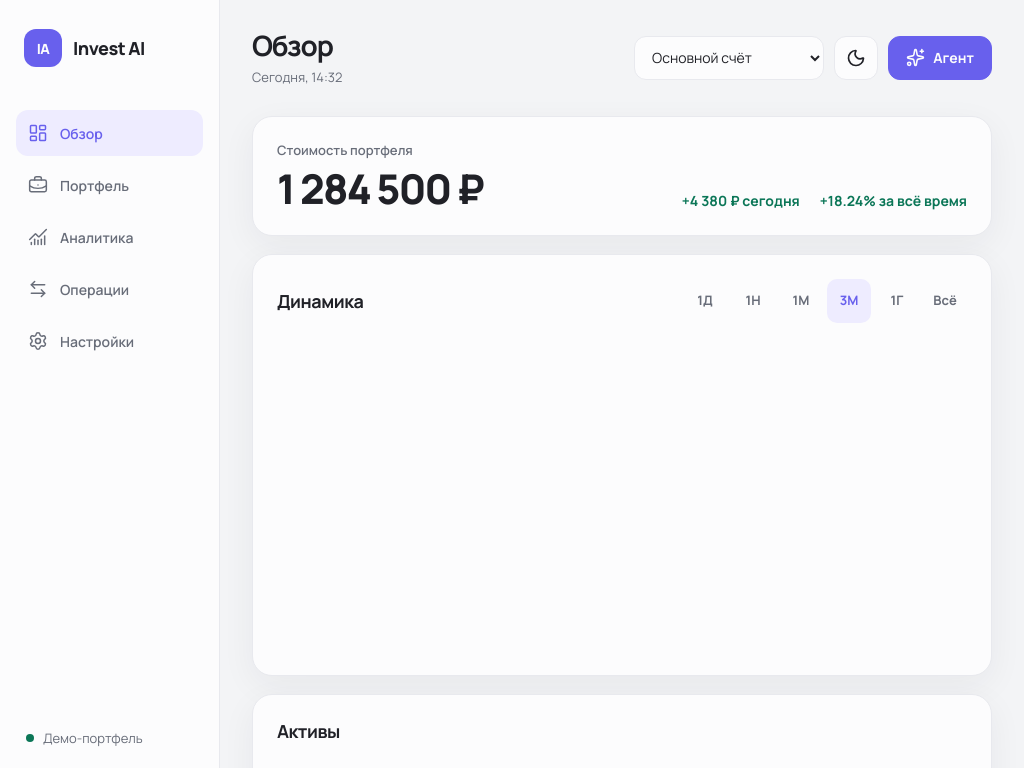
Test: StandApp › returns focus to the topbar opener after Escape and after reopening
Later steps or results of the test are not shown.
Click the button with aria-label "Открыть агента" at (940, 58), box [888,36,992,80]
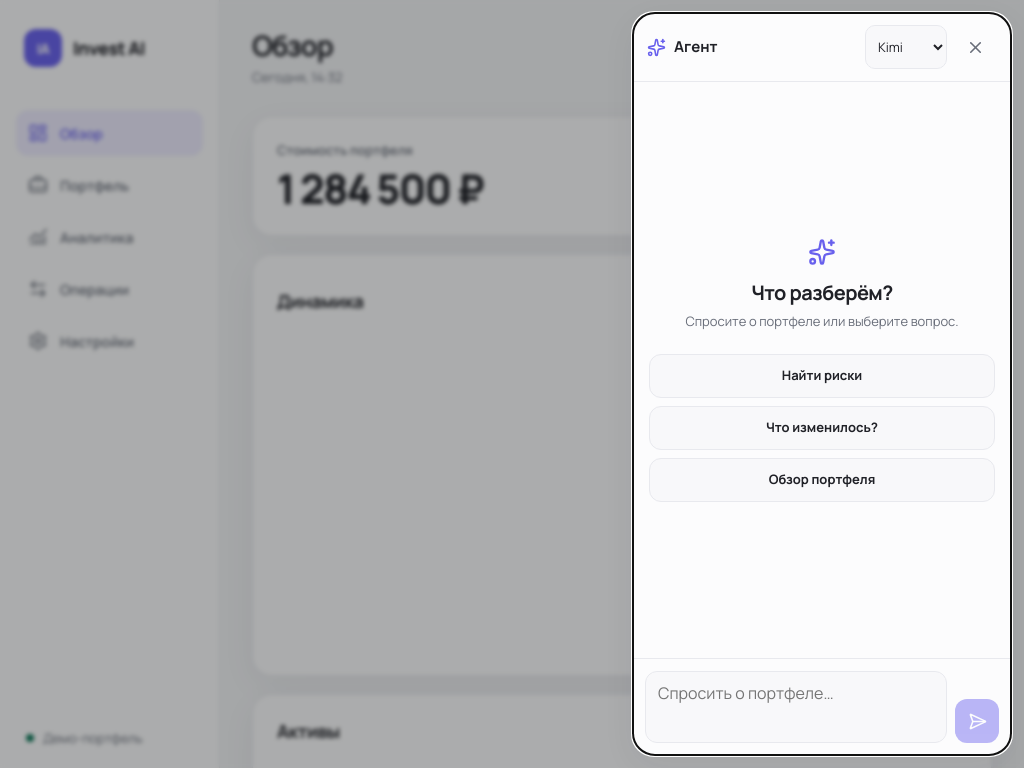
Press Escape
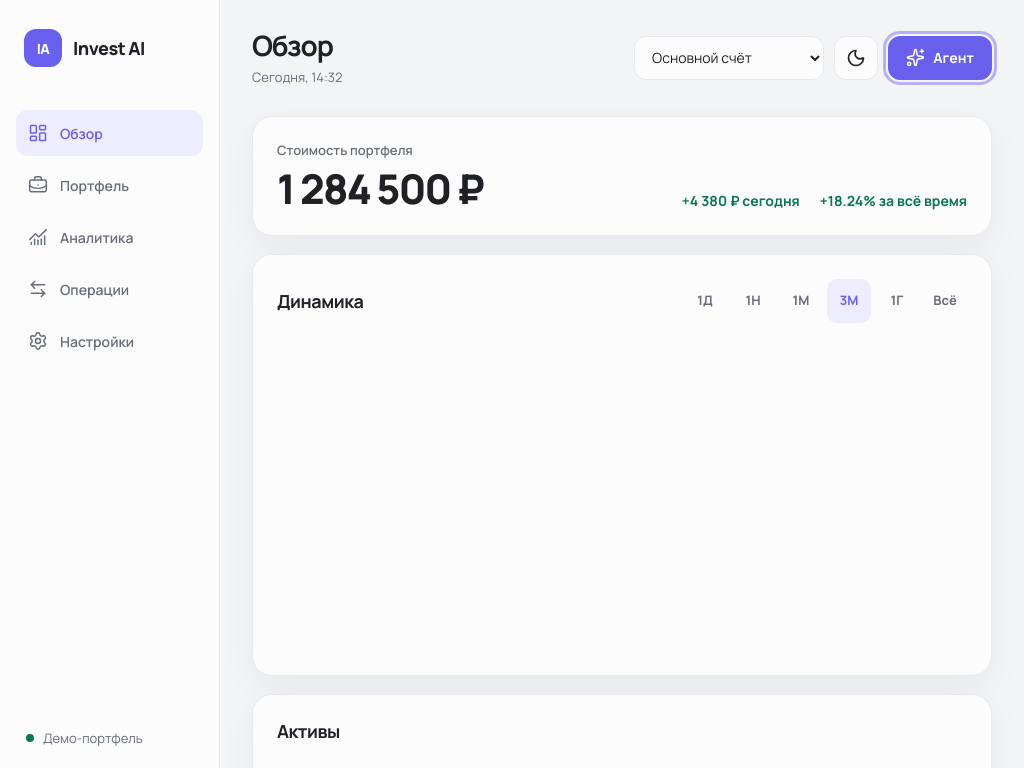
Expected: the dialog "ИИ-агент" is gone
